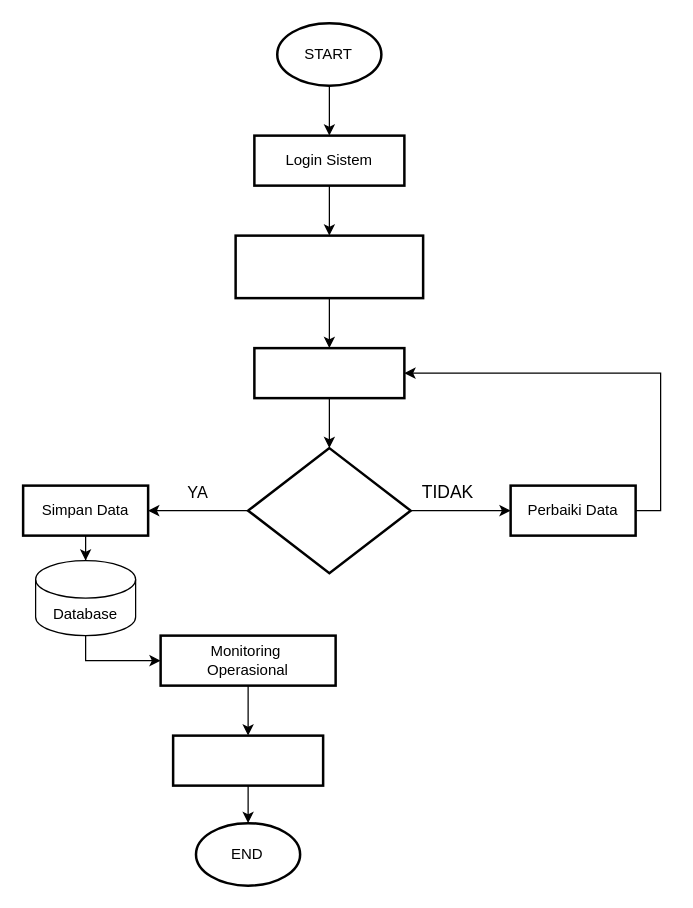
Image size: 693x908. Some labels were removed from this diagram. The shapes that lost their labels are listed below. From the top down, each one's centre as x and y in pixels, then its label:
(x=329, y=266): Input Data Operasional Sumur
(x=328, y=372): Validasi Data
(x=328, y=510): Apakah Data Valid ?
(x=247, y=760): Pembuatan Laporan
